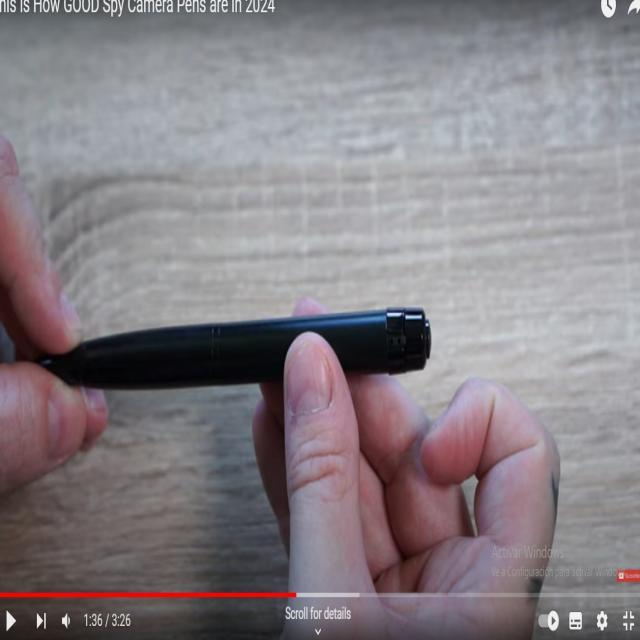hidden camera: (390, 334, 395, 345)
